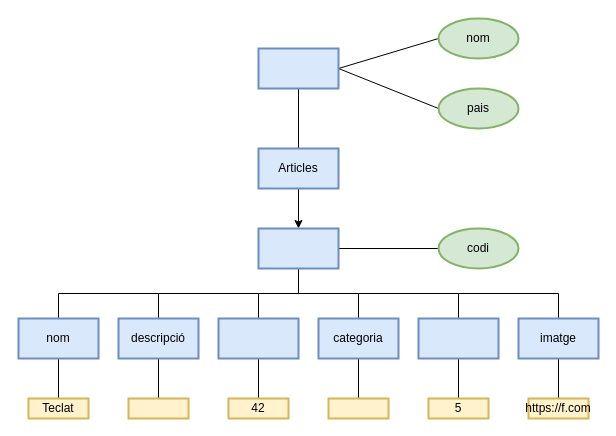
Some shapes in this 616 by 436 pixel diagram are drawn without their labels. The shapes that lost their labels are listed below. From the top down, each one's centre as x and y in pixels, then its label:
At (x=298, y=68): "Botiga".
At (x=298, y=248): "Article".
At (x=258, y=338): "preu".
At (x=458, y=338): "disponibilitat".
At (x=158, y=408): "Teclat m...".
At (x=358, y=408): "Periferics".
